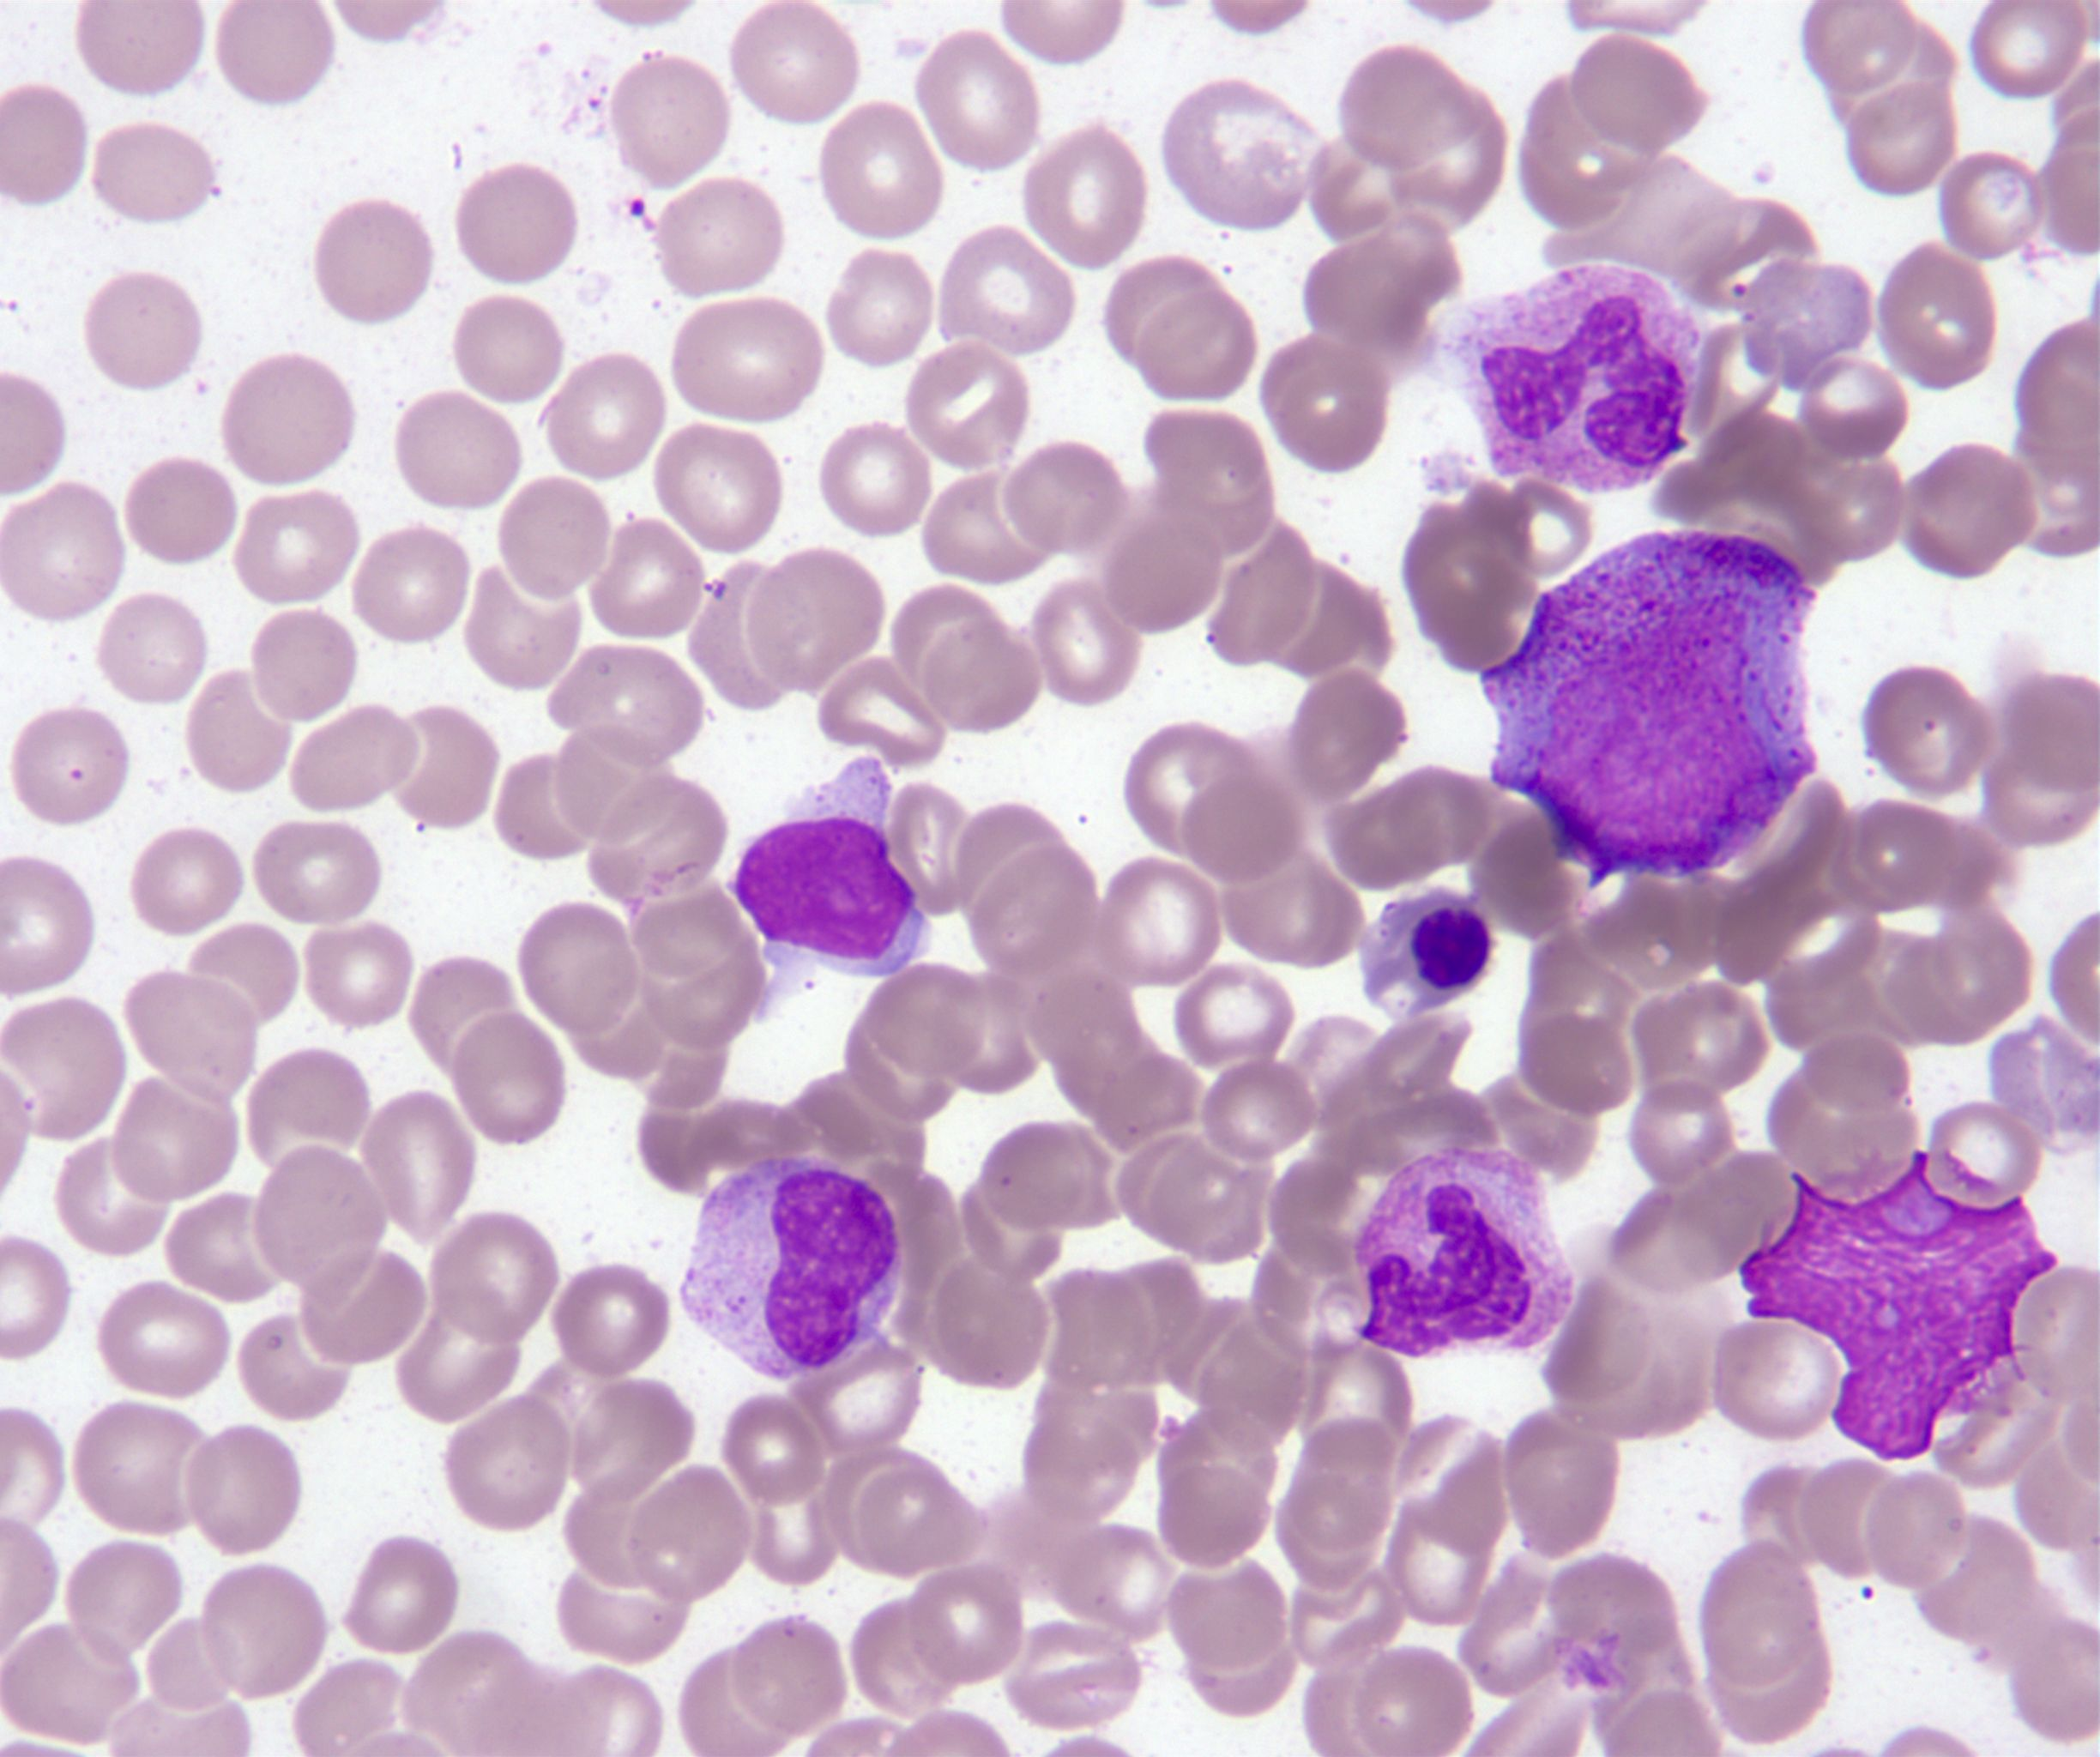2: (1481, 530, 1817, 892)
24: (1359, 890, 1491, 1026)
32: (731, 757, 928, 1024)
4: (682, 1159, 900, 1378), (1357, 1148, 1573, 1357)
5: (1432, 263, 1699, 494)
x: (1739, 1148, 2055, 1459)
